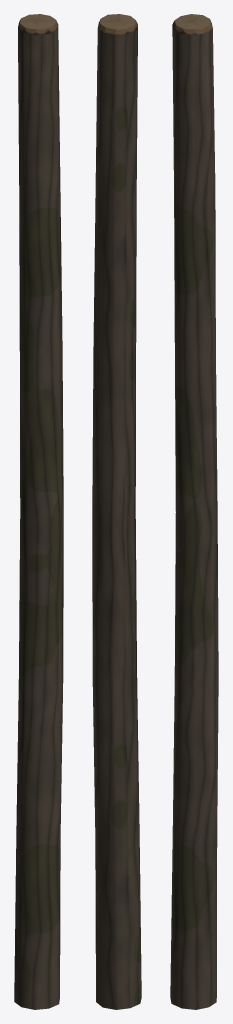
Rendered from S7U_Rev_Post.fbx.
3 renders of one model, left to right at view 1: azimuth 30°, elevation 25°; view 2: azimuth 210°, elevation 25°; view 3: azimuth 330°, elevation 25°, orthographic.
Visible parts, largest first — view 1: S7U_Rev_Post; view 2: S7U_Rev_Post; view 3: S7U_Rev_Post.
Boxes of the visible parts, <box> form: S7U_Rev_Post: <box>14,14,63,1009</box>; S7U_Rev_Post: <box>92,14,141,1009</box>; S7U_Rev_Post: <box>170,14,218,1009</box>.
Size of the model in its own units: 0.1148 by 2.56 by 0.1114.
